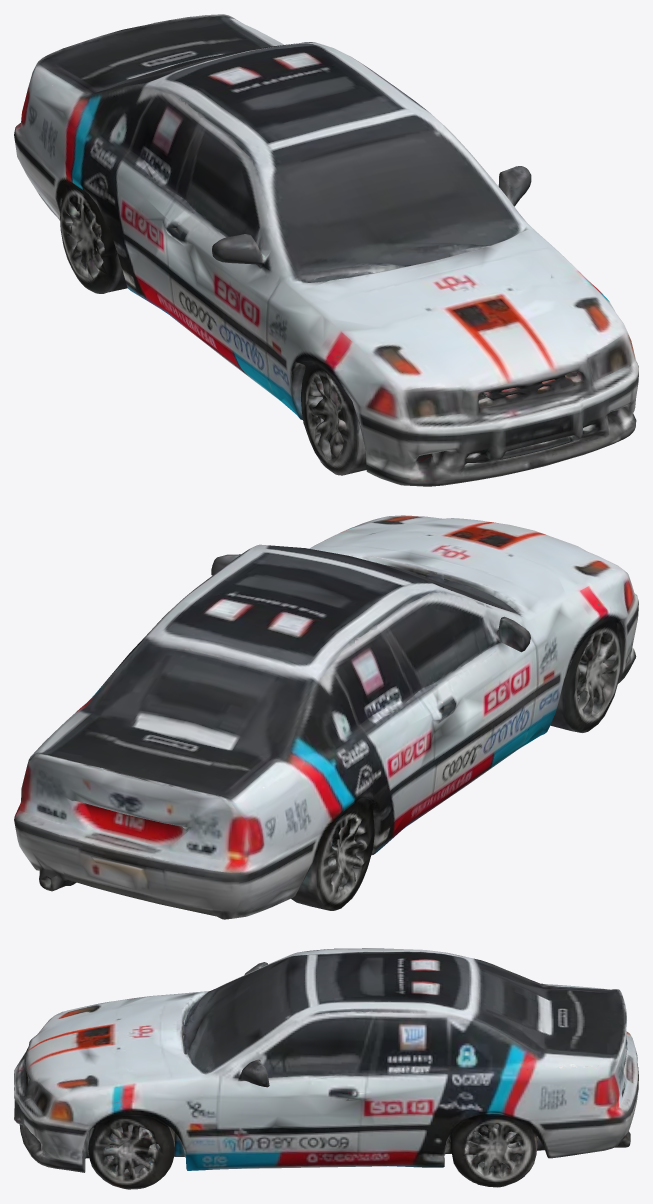
File: rally-car.glb
The picture shows the model from 3 angles, top to bottom: view 1: azimuth 30°, elevation 25°; view 2: azimuth 150°, elevation 25°; view 3: azimuth 270°, elevation 25°; orthographic projection. The views are drawn at different scales.
Bounding box in the file's own units: 0.8669 × 0.5944 × 2.
Materials: 1 (1 with a texture image).
